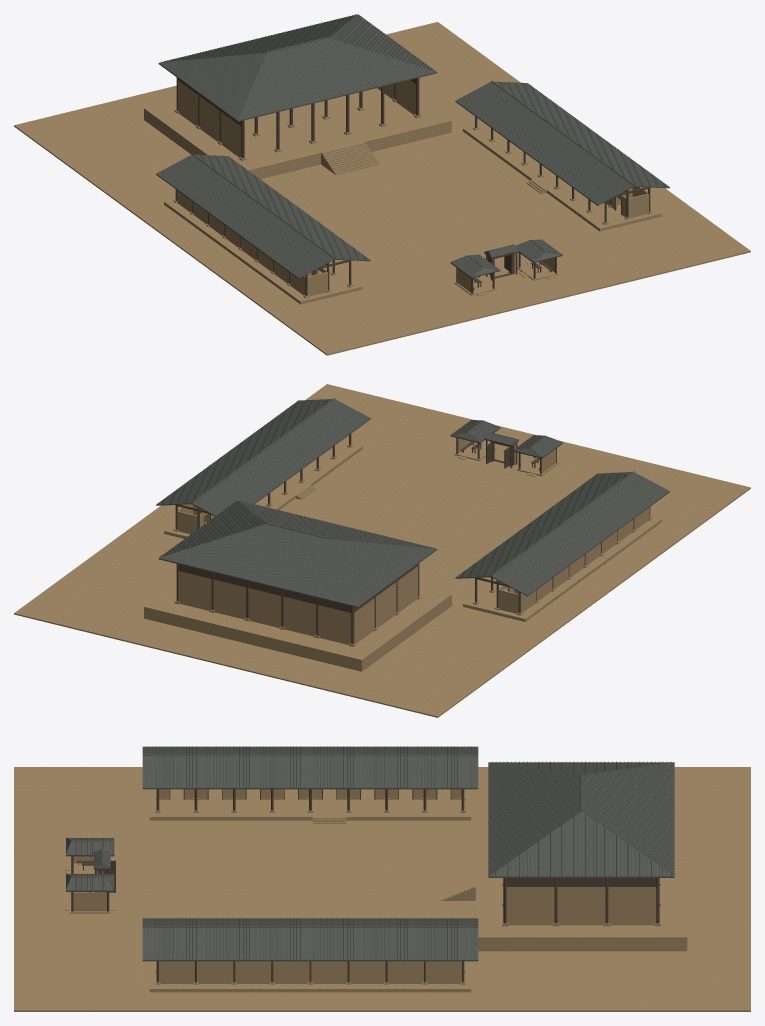
File: palace-admission-court-open-LOD0.glb
The picture shows the model from 3 angles, top to bottom: view 1: azimuth 30°, elevation 25°; view 2: azimuth 150°, elevation 25°; view 3: azimuth 270°, elevation 25°; orthographic projection. The views are drawn at different scales.
Visible parts, largest first — view 1: new_court_support_C, hall__deyang-A-static_earth, hall__deyang-A-static_tile, west_gallery__sidehall-A-static_tile, east_gallery__sidehall-A-static_tile, east_gallery__sidehall-A-static_earth, west_gallery__sidehall-A-static_earth, guard__guard-slice-ground-earth, hall__deyang-A-static_timber, guard__guard-slice-west-tile, guard__guard-slice-east-tile, east_gallery__sidehall-A-static_timber (+1 smaller); view 2: new_court_support_C, hall__deyang-A-static_tile, hall__deyang-A-static_earth, west_gallery__sidehall-A-static_tile, east_gallery__sidehall-A-static_tile, west_gallery__sidehall-A-static_earth, guard__guard-slice-ground-earth, east_gallery__sidehall-A-static_earth, hall__deyang-A-static_timber, guard__guard-slice-west-tile, guard__guard-slice-east-tile, guard__guard-slice-west-earth; view 3: new_court_support_C, hall__deyang-A-static_tile, hall__deyang-A-static_earth, east_gallery__sidehall-A-static_tile, west_gallery__sidehall-A-static_tile, east_gallery__sidehall-A-static_earth, west_gallery__sidehall-A-static_earth, guard__guard-slice-ground-earth, hall__deyang-A-static_timber, west_gallery__sidehall-A-static_timber, guard__guard-slice-east-tile, guard__guard-slice-east-earth (+2 smaller).
Boxes of the visible parts, x1,y1,x2,y2 form: new_court_support_C: (14,22,750,355); hall__deyang-A-static_earth: (144,80,451,179); hall__deyang-A-static_tile: (158,14,437,121); west_gallery__sidehall-A-static_tile: (156,153,370,278); east_gallery__sidehall-A-static_tile: (455,80,669,205); east_gallery__sidehall-A-static_earth: (463,123,662,231); west_gallery__sidehall-A-static_earth: (164,190,362,304); guard__guard-slice-ground-earth: (419,252,593,312); hall__deyang-A-static_timber: (176,77,419,158); guard__guard-slice-west-tile: (450,254,500,277); guard__guard-slice-east-tile: (515,239,562,262); east_gallery__sidehall-A-static_timber: (475,116,650,222); new_court_support_C: (14,384,750,717); hall__deyang-A-static_tile: (158,500,437,607); hall__deyang-A-static_earth: (144,566,451,671); west_gallery__sidehall-A-static_tile: (455,471,669,596); east_gallery__sidehall-A-static_tile: (156,398,370,516); west_gallery__sidehall-A-static_earth: (463,507,662,621); guard__guard-slice-ground-earth: (419,432,593,492); east_gallery__sidehall-A-static_earth: (164,441,362,538); hall__deyang-A-static_timber: (176,563,419,644); guard__guard-slice-west-tile: (513,435,562,457); guard__guard-slice-east-tile: (450,420,500,442); guard__guard-slice-west-earth: (516,449,558,476); new_court_support_C: (14,767,750,1011); hall__deyang-A-static_tile: (488,761,674,877); hall__deyang-A-static_earth: (441,812,687,951); east_gallery__sidehall-A-static_tile: (142,918,478,961); west_gallery__sidehall-A-static_tile: (142,746,478,789); east_gallery__sidehall-A-static_earth: (149,961,471,992); west_gallery__sidehall-A-static_earth: (149,789,471,823); guard__guard-slice-ground-earth: (31,852,149,924); hall__deyang-A-static_timber: (503,878,659,923); west_gallery__sidehall-A-static_timber: (156,789,464,810); guard__guard-slice-east-tile: (66,873,114,891); guard__guard-slice-east-earth: (64,892,115,913).
Size of the model in its own units: 68 by 12.74 by 87.
Materials: 9 (9 with a texture image).
